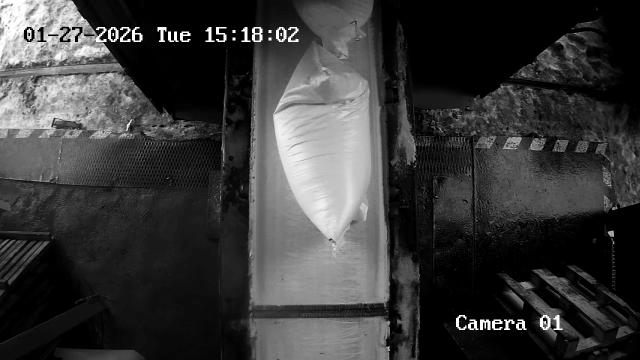bag: (274, 41, 370, 244), (294, 0, 374, 55)
